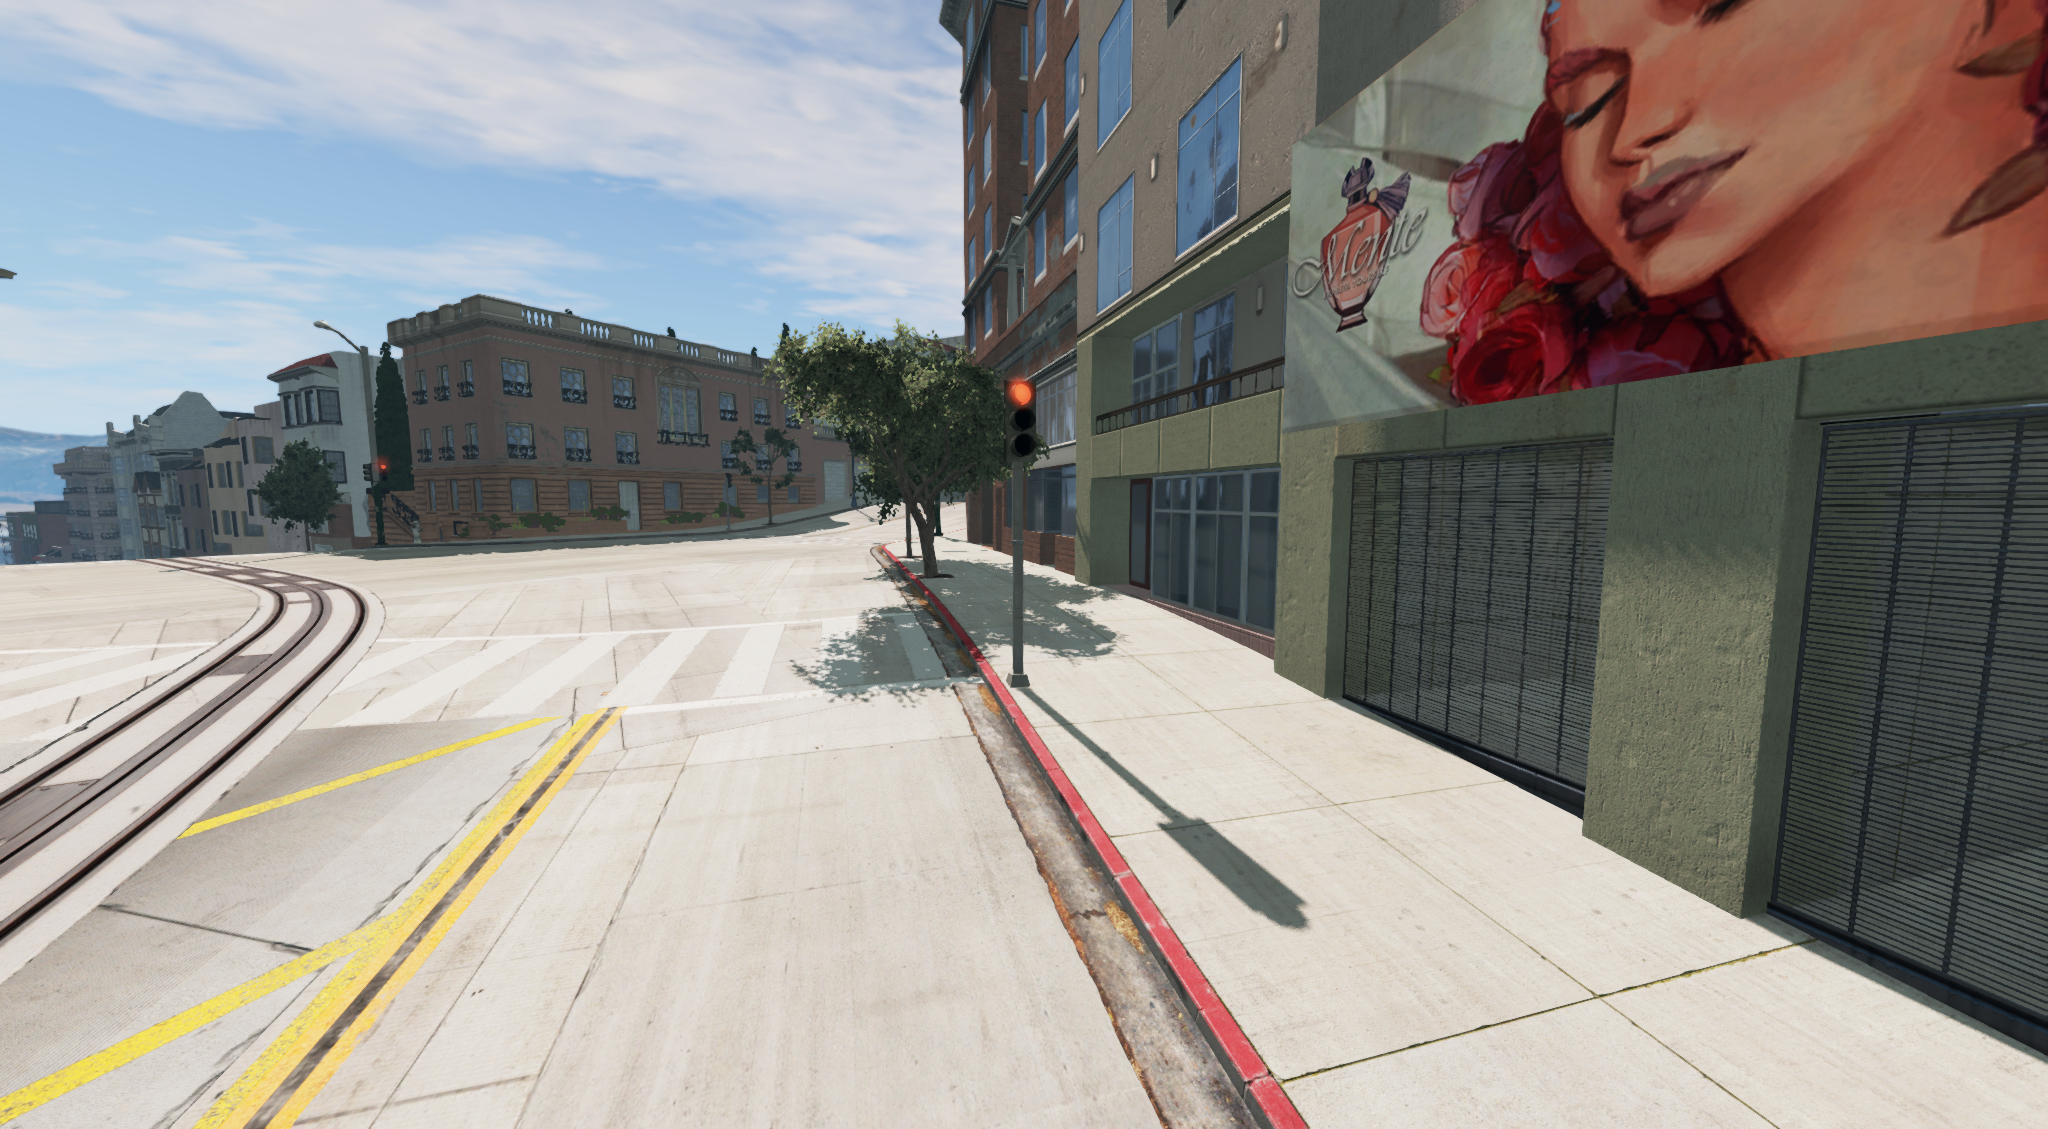red: (1000, 380, 1043, 464)
